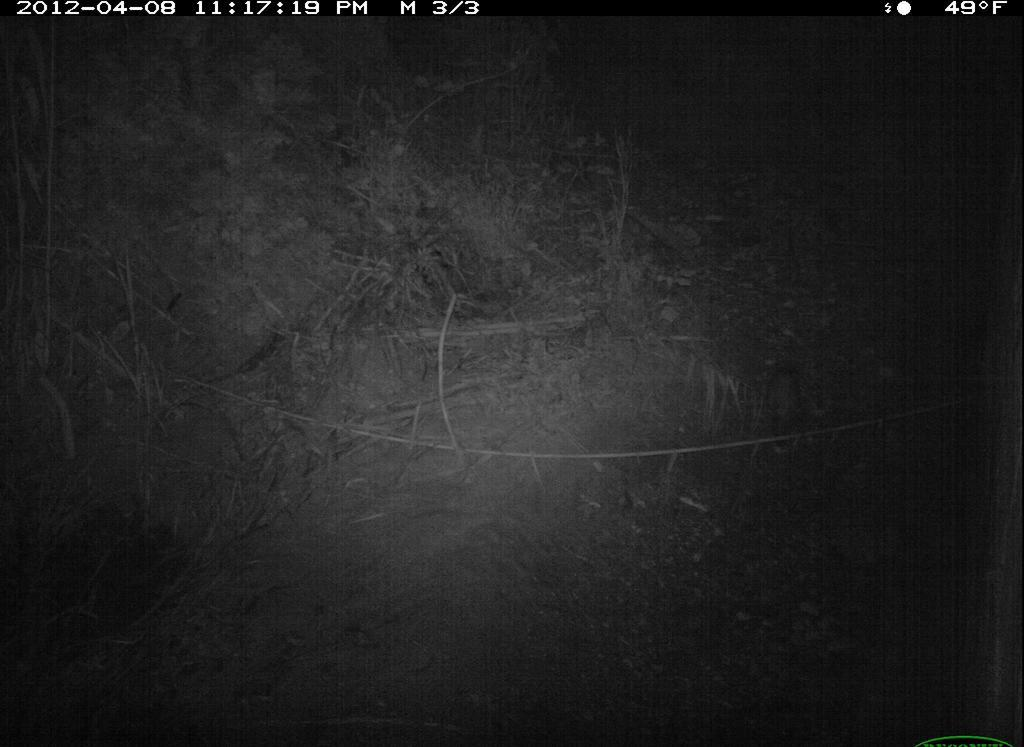opossum: (753, 356, 824, 465)
